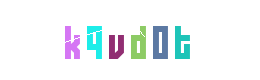0: (99, 0, 179, 80)
9: (76, 0, 156, 80)
D: (98, 0, 178, 80)
K: (31, 0, 111, 80)
T: (120, 0, 200, 80)
V: (90, 0, 170, 80)
